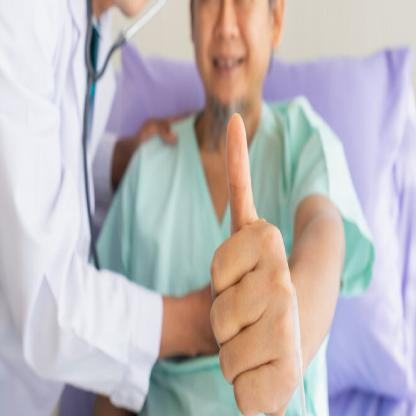Thumbs up: (189, 103, 321, 415)
